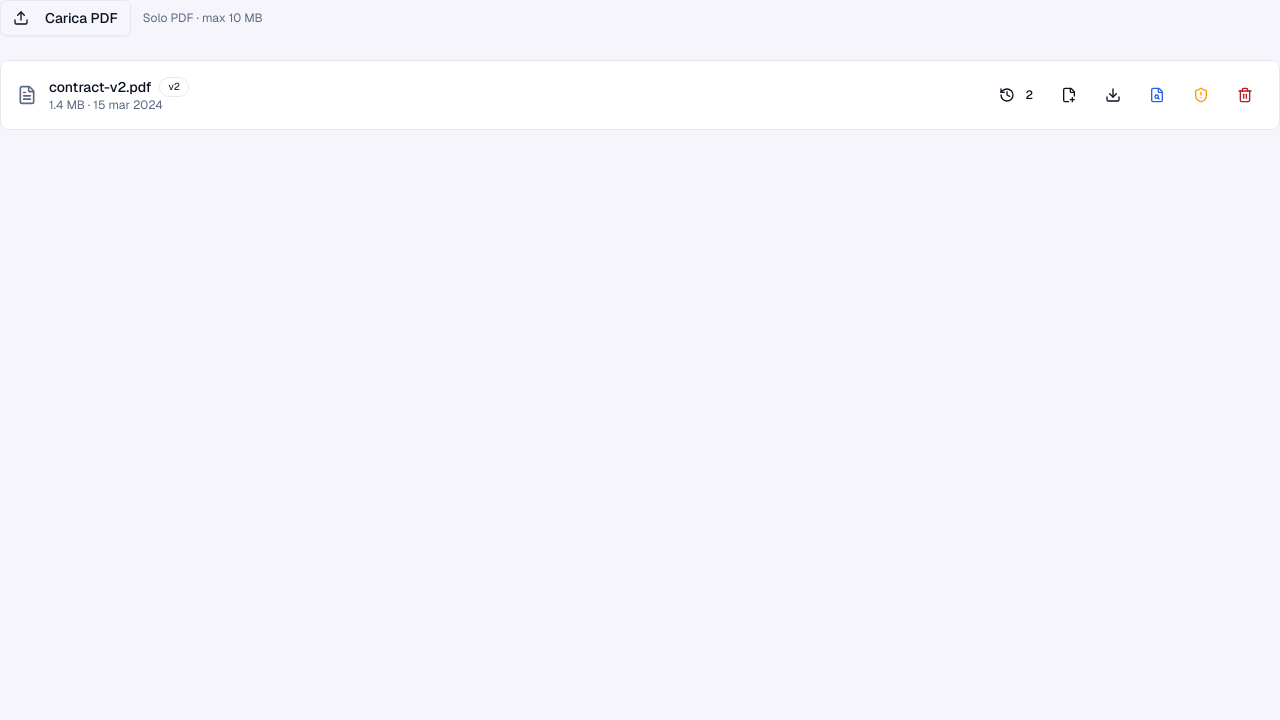
Test: DocumentsTab › versioning › closes the version history dialog on Escape
The image size is (1280, 720).
Click the button titled "Cronologia versioni".
click(1016, 95)  # box [989,79,1043,111]
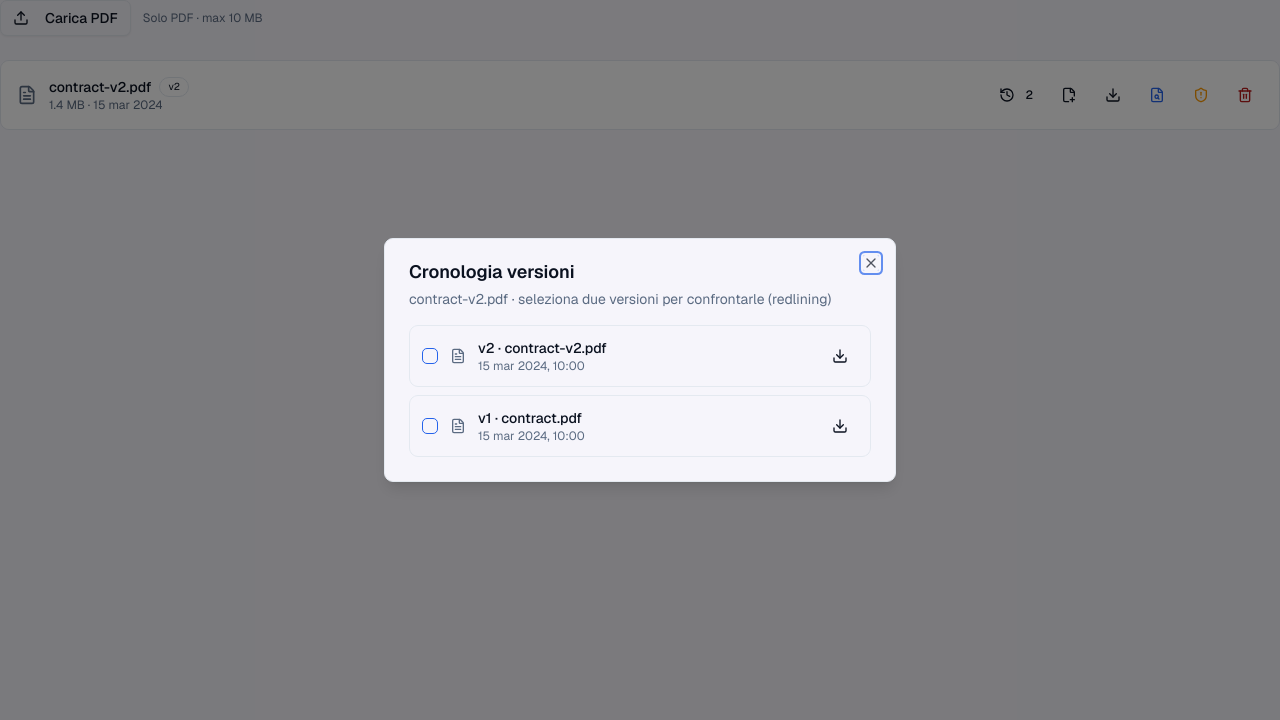
Check: the heading "Cronologia versioni" is shown, box [409,260,574,283]
Press Escape
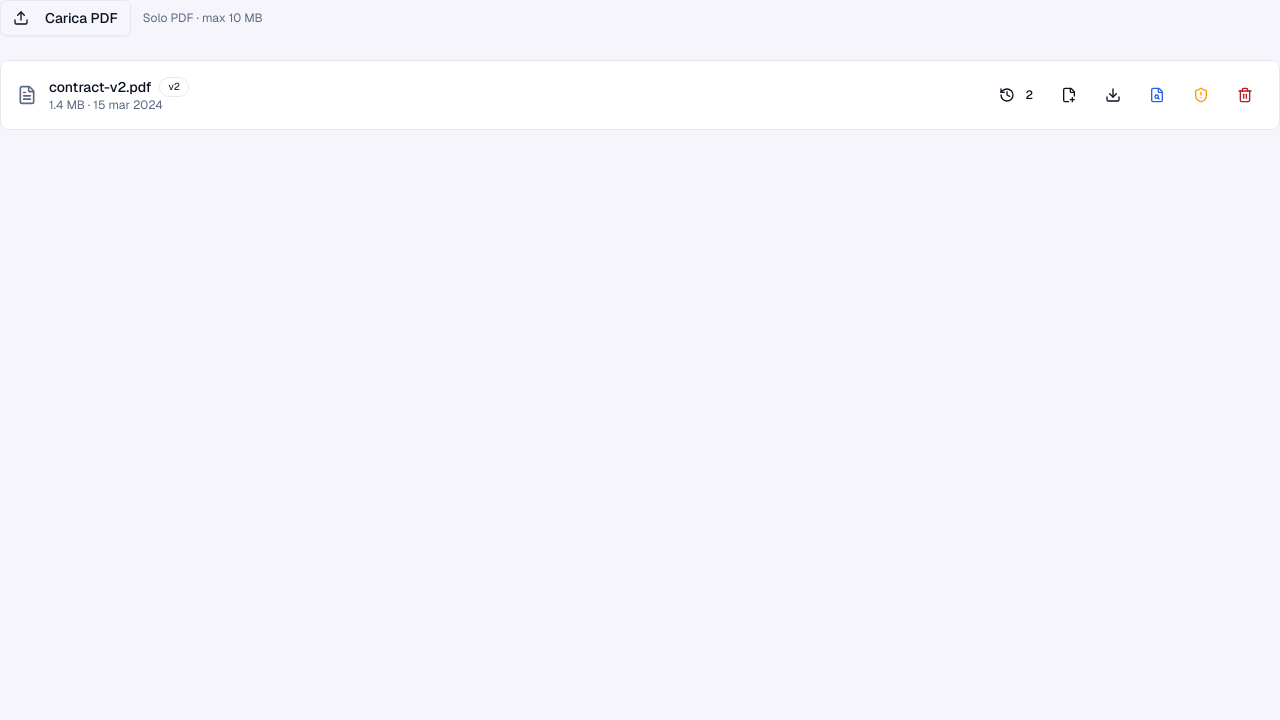
Check: the heading "Cronologia versioni" is gone
